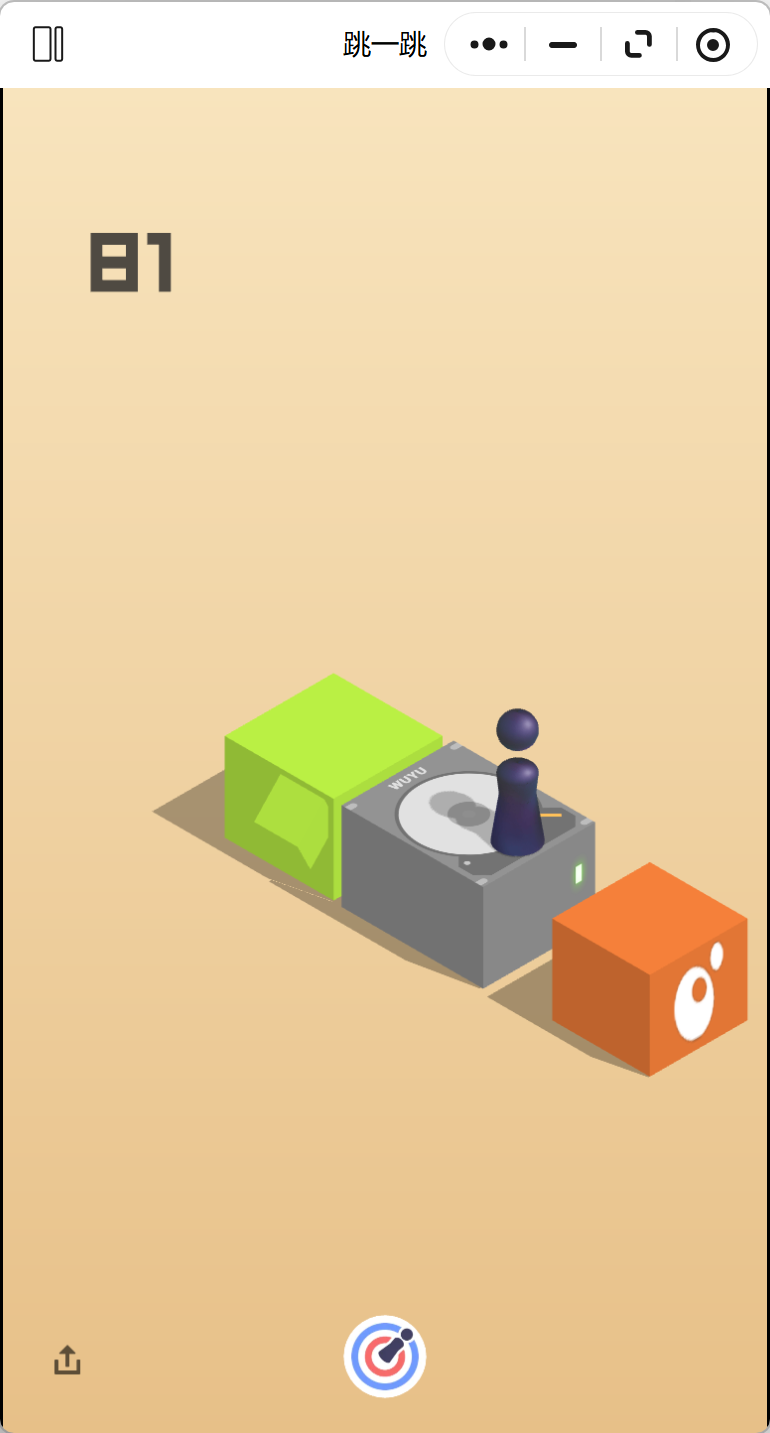piece: (493, 710, 549, 865)
platform: (222, 675, 444, 908)
